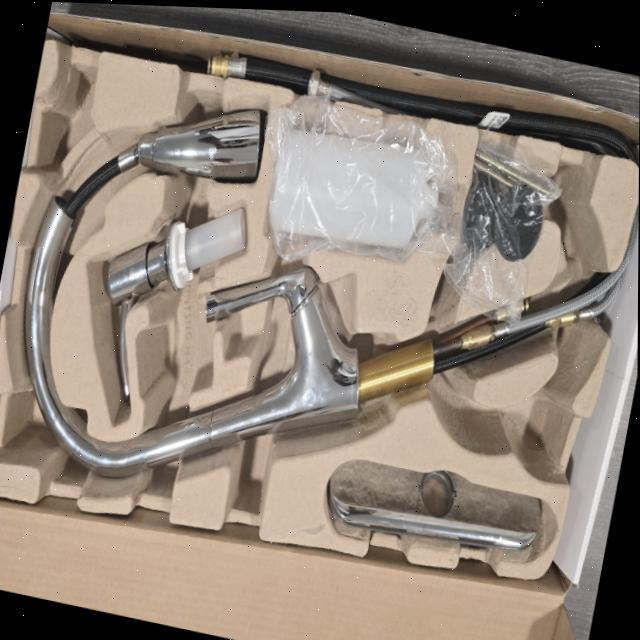1: (22, 104, 625, 478)
2: (106, 209, 247, 401)
3: (269, 123, 453, 247)
4: (326, 457, 541, 551)
5m: (506, 390, 566, 467)
6m: (523, 156, 603, 266)
7: (446, 142, 562, 330)
